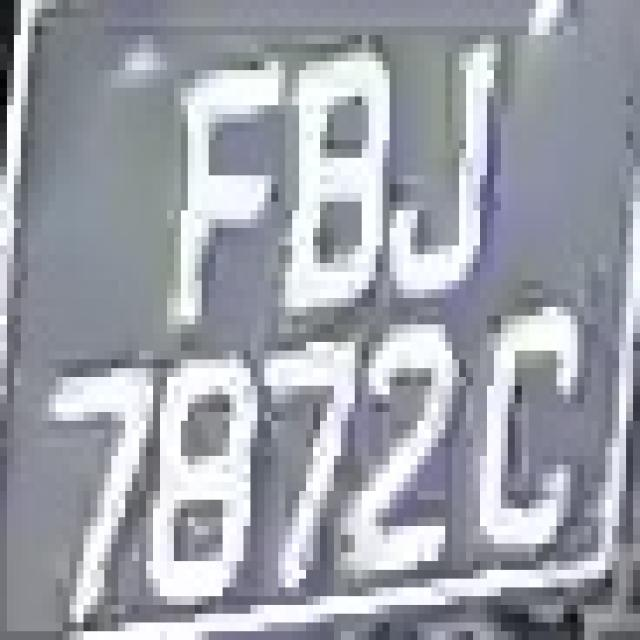2: (348, 342, 459, 605)
7: (28, 333, 153, 623), (243, 333, 362, 631)
8: (132, 324, 251, 614)
B: (257, 44, 403, 324)
C: (480, 307, 577, 561)
F: (153, 44, 278, 359)
J: (396, 9, 501, 307)
